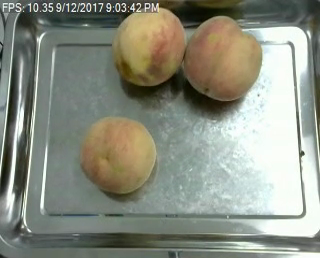Peach: (181, 15, 262, 102), (79, 116, 156, 193), (112, 6, 184, 88)
